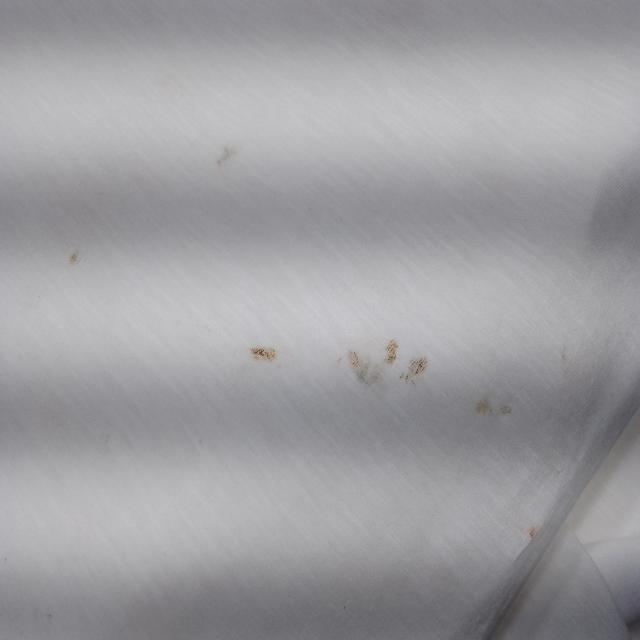Hole: (324, 313, 442, 423), (460, 369, 538, 458), (218, 320, 294, 393), (190, 137, 254, 181), (46, 240, 102, 285)
